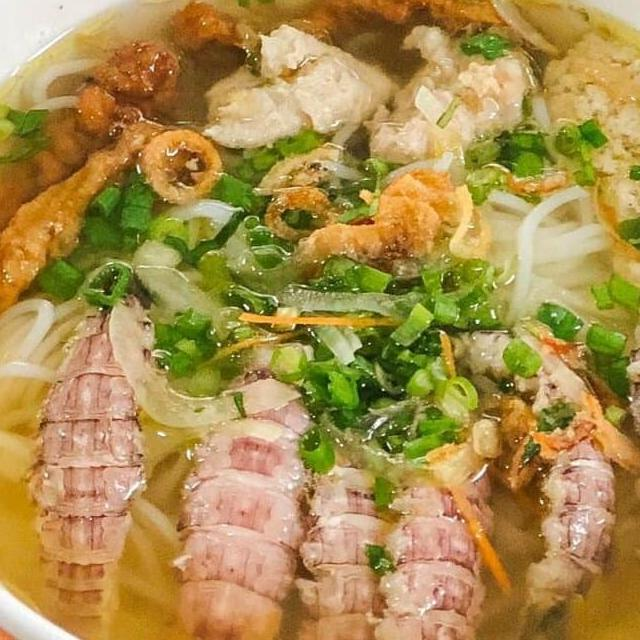bun: (455, 145, 640, 356), (0, 239, 97, 490)
tom tit: (420, 321, 623, 640), (16, 263, 154, 640), (164, 322, 327, 640), (347, 387, 502, 640), (282, 409, 404, 640)
